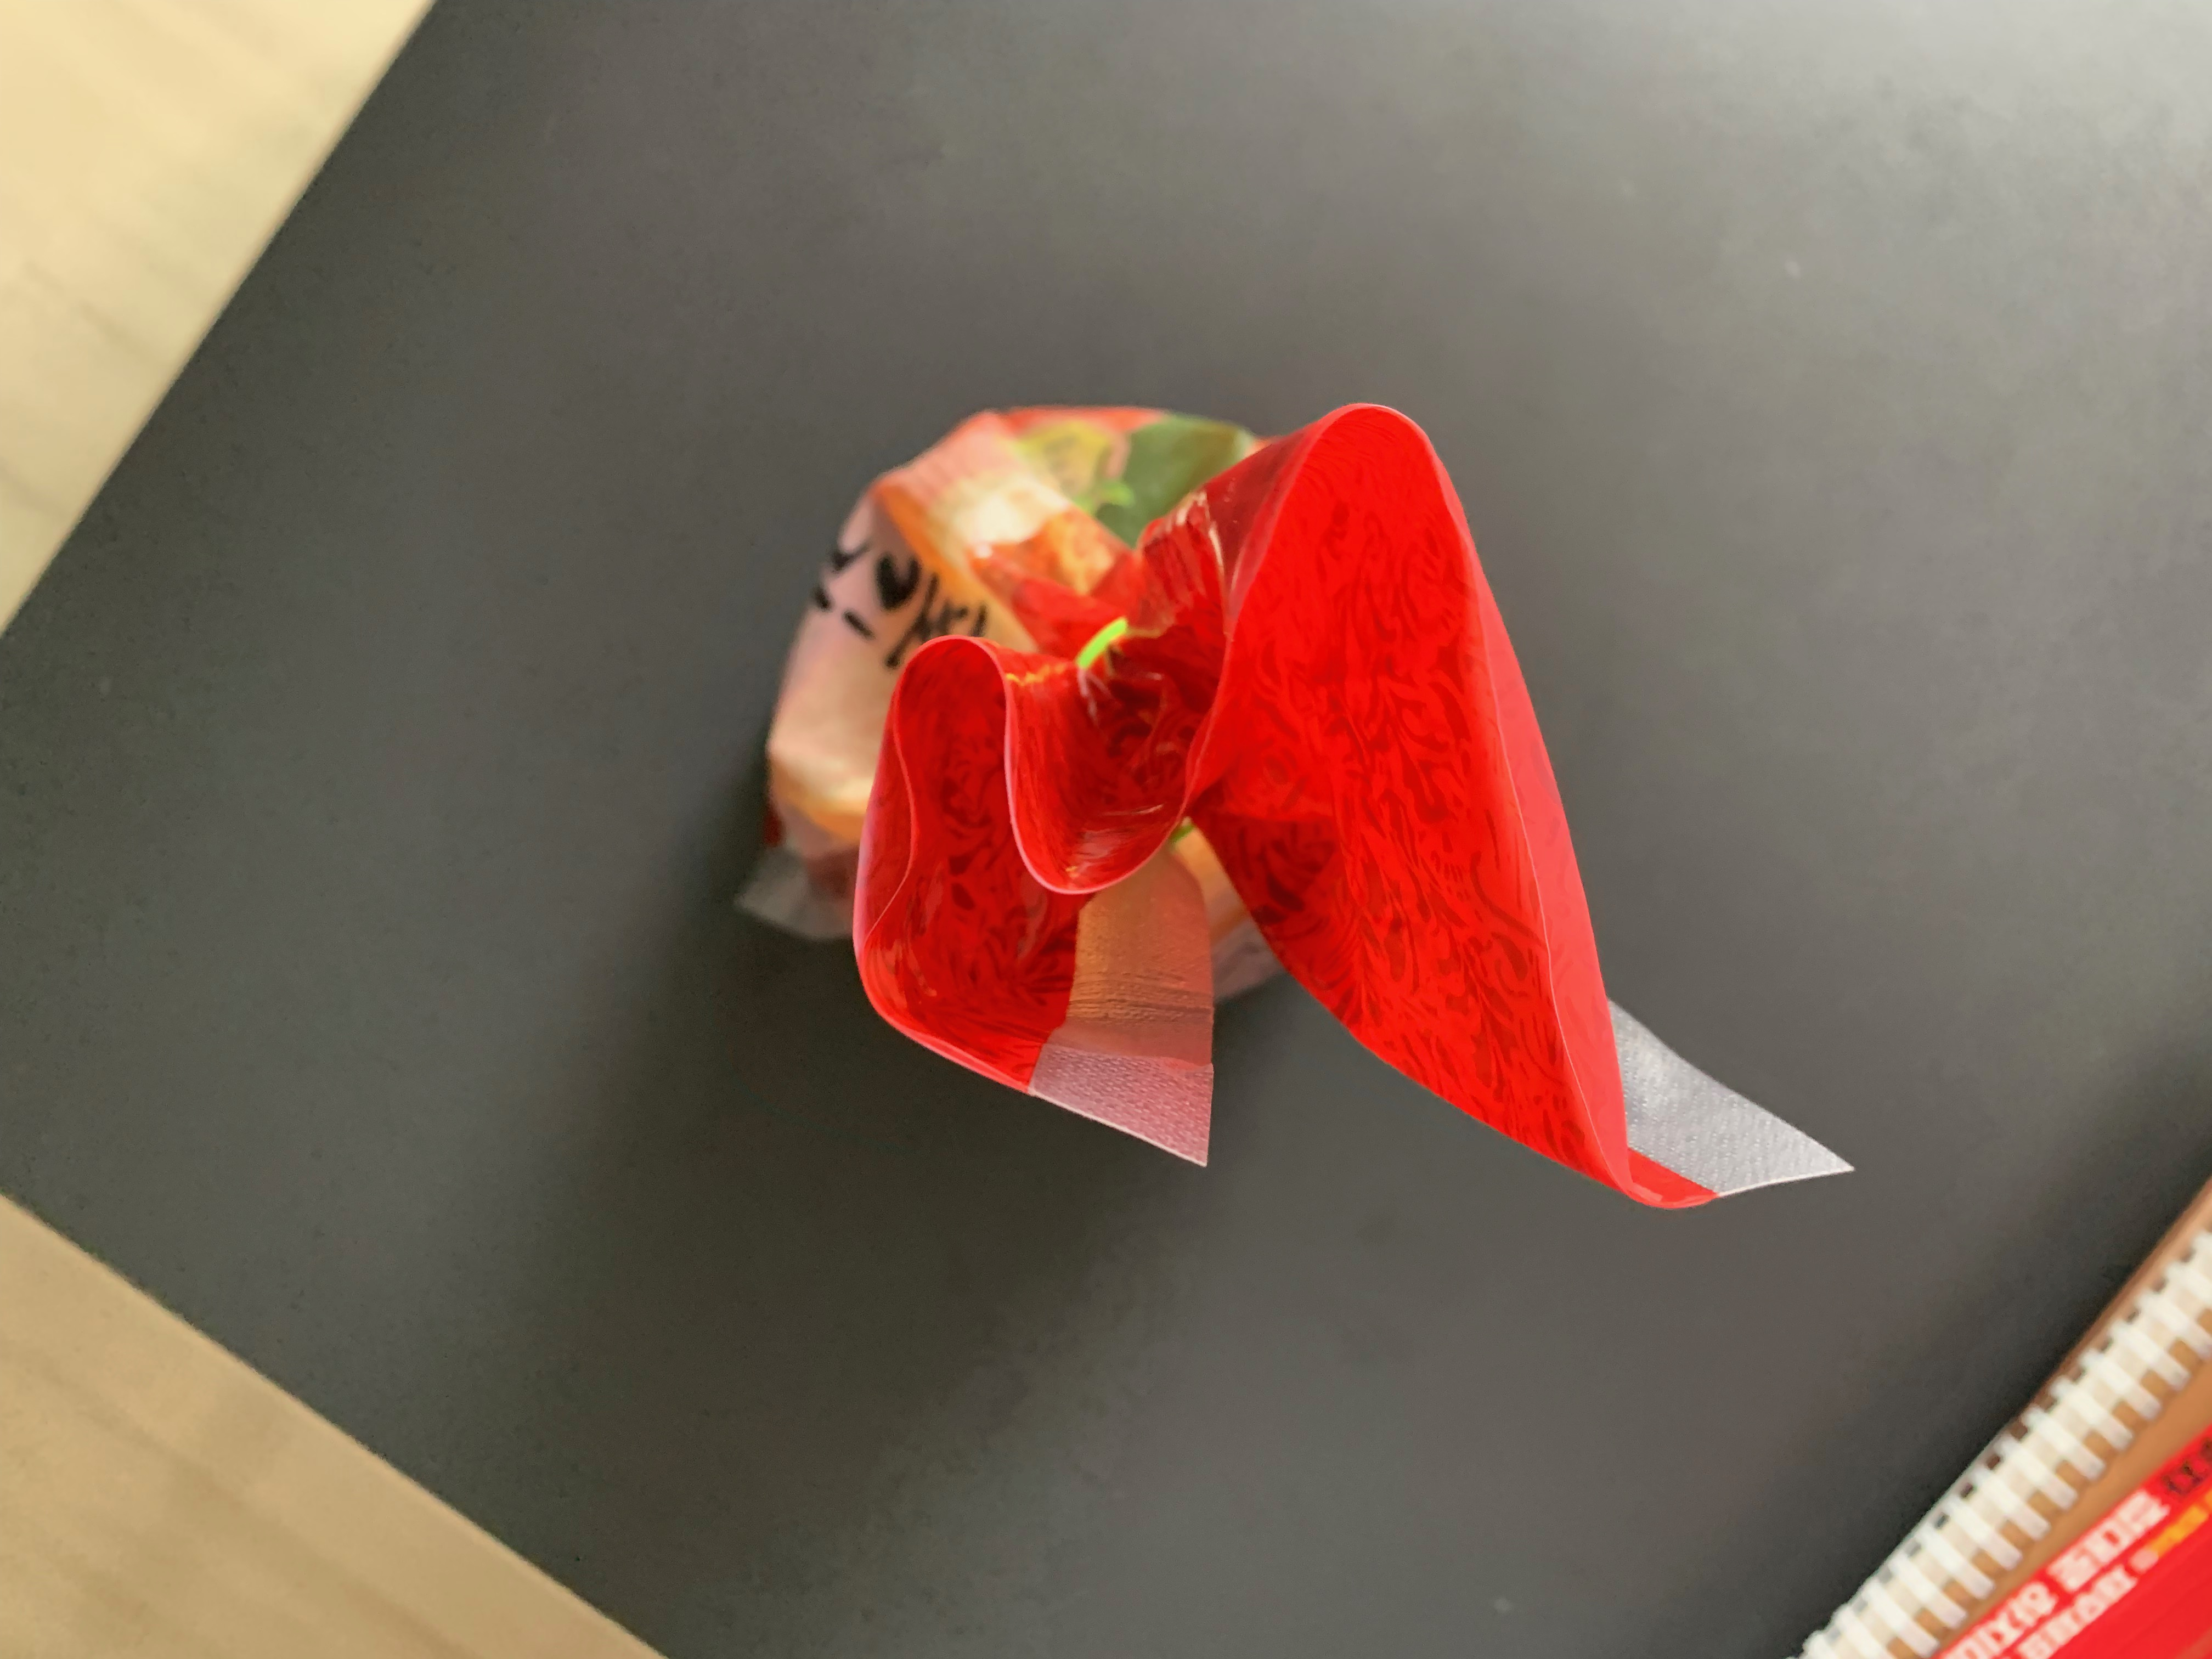kimchi: (759, 401, 1653, 1199)
